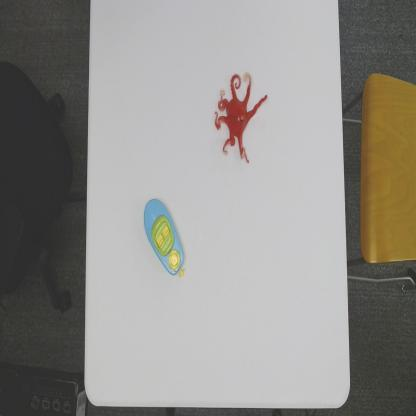Boat: (144, 195, 188, 278)
Octopus: (213, 72, 268, 165)
